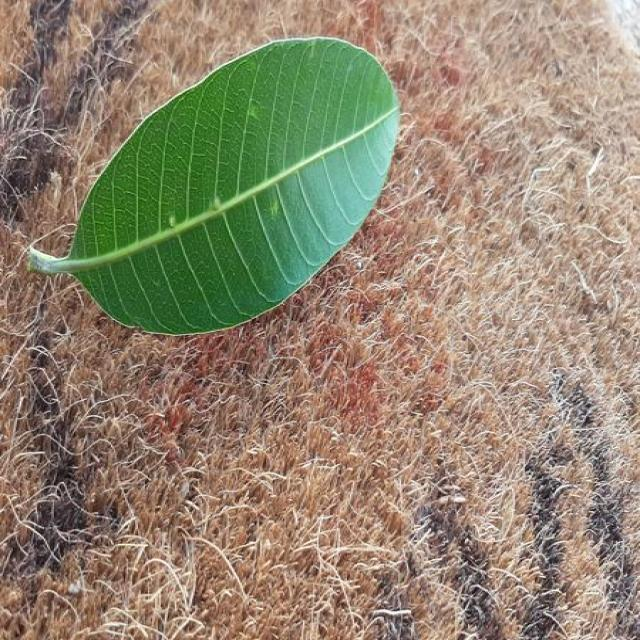mango: (30, 39, 398, 333)
